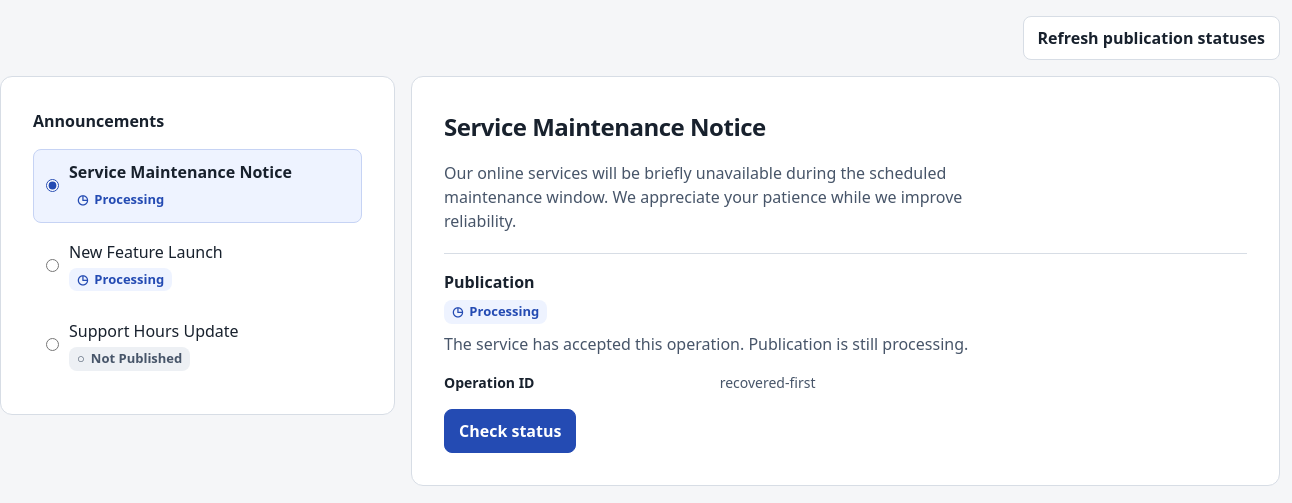
Test case: follows both recovered operations across selection changes and ignores the previous mount response
The image size is (1292, 503).
Expected: the text "recovered-first" is shown, [720,372,816,392]
Click the radio button labelled "New Feature Launch ◷ Processing": [52, 265] box [46,259,59,272]
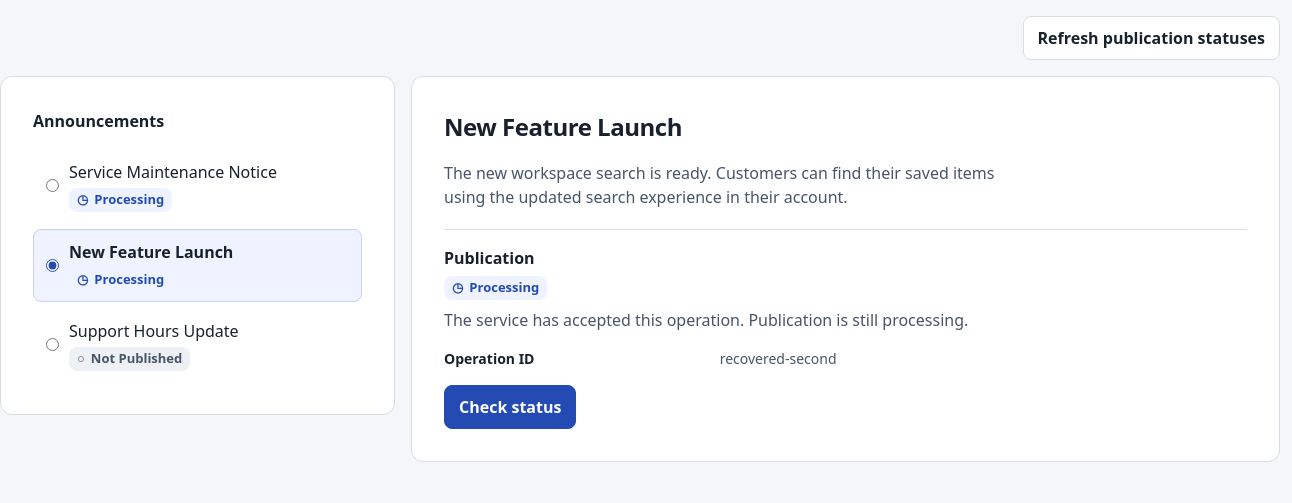
Now the text "recovered-second" is shown, box [720,348,837,368]
Click the button "Check status": [510, 406] box [444,384,576,428]
Wait 4300 ms
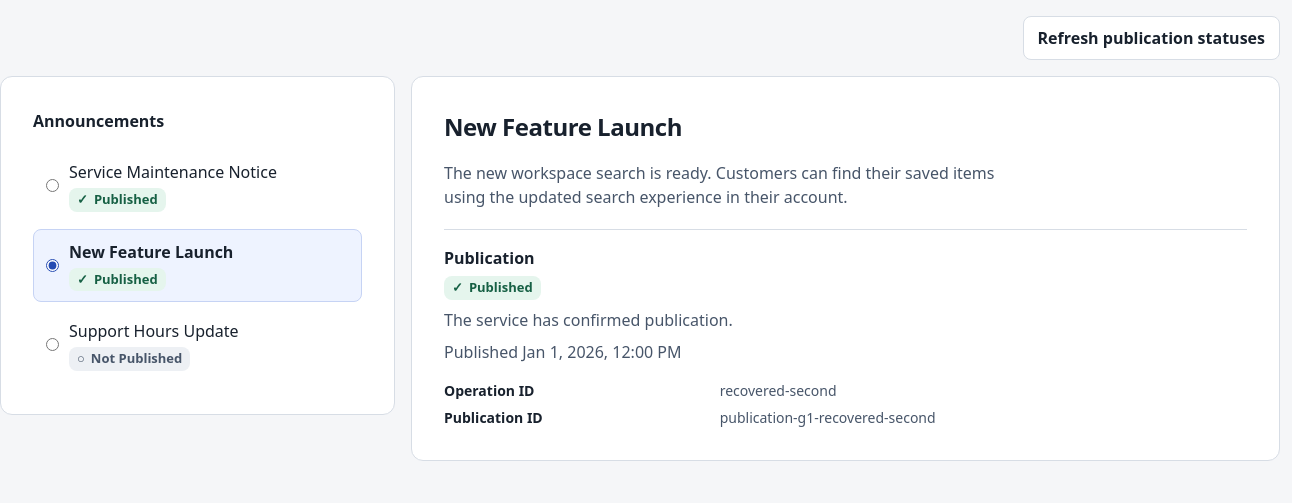
Now the radio button labelled "New Feature Launch ✓ Published" is checked, box [46,259,59,272]
Now the text "recovered-second" is shown, box [720,380,837,400]
Click the radio button labelled "Service Maintenance Notice ✓ Published": [52, 186] box [46,179,59,192]
Wait 10000 ms
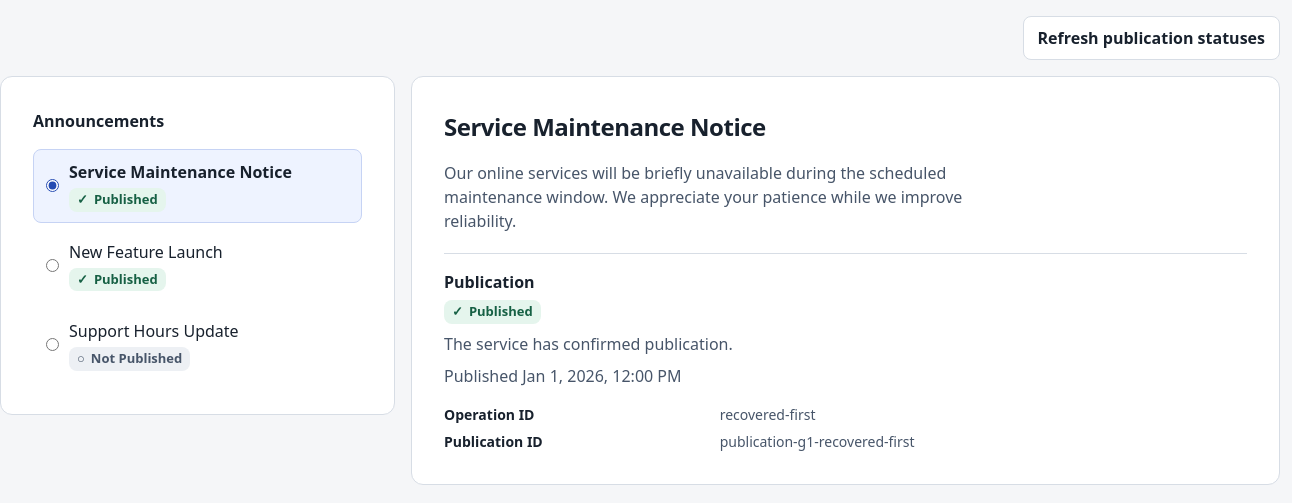
Now the text "recovered-first" is shown, box [720,404,816,424]
